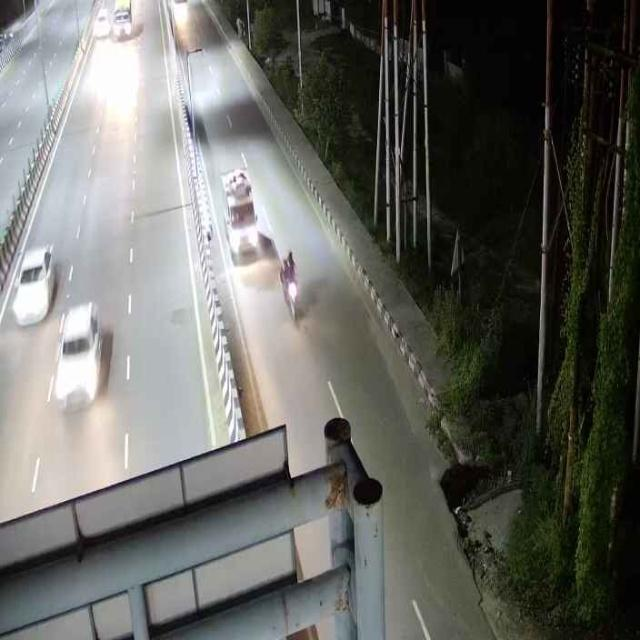car: (52, 299, 107, 404), (8, 237, 57, 326), (221, 166, 264, 261)
